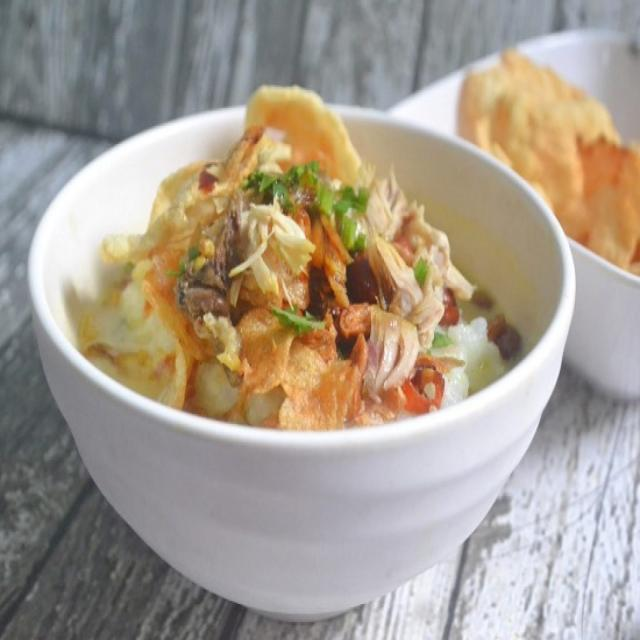bubur ayam: (84, 80, 516, 432)
mangkuk: (23, 90, 576, 620), (456, 27, 640, 402)
